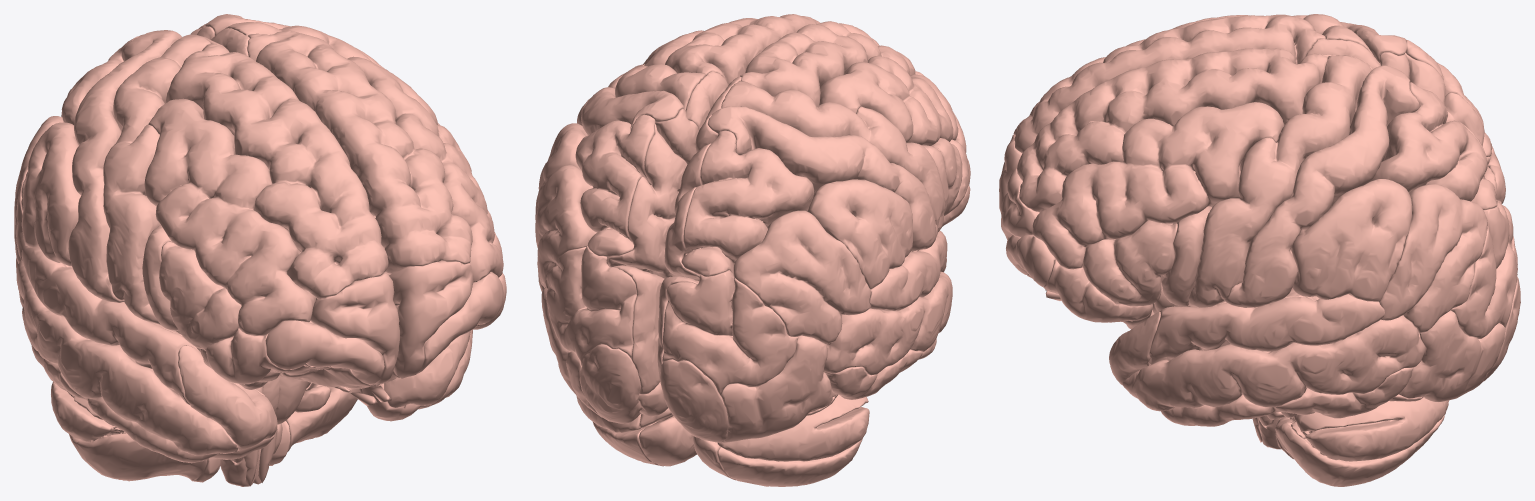
The model's file is brain.glb.
3 renders of one model, left to right at view 1: azimuth 30°, elevation 25°; view 2: azimuth 150°, elevation 25°; view 3: azimuth 270°, elevation 25°, orthographic. The views are drawn at different scales.
Visible parts, largest first — view 1: Allen_superior_frontal_gyrus_L, Allen_middle_frontal_gyrus_L, Allen_superior_frontal_gyrus_R, Allen_middle_temporal_gyrus_L, Allen_precentral_gyrus_L, Allen_postcentral_gyrus_L, Allen_superior_temporal_gyrus_L, Allen_middle_frontal_gyrus_R, Allen_supramarginal_gyrus_L, Allen_rostral_gyrus_R, Allen_lateral_hemisphere_of_cerebellum_L, Allen_inferior_frontal_gyrus_triangular_part_L (+19 smaller); view 2: Allen_angular_gyrus_L, Allen_supraparietal_lobule_L, Allen_superior_occipital_gyrus_L, Allen_postcentral_gyrus_L, Allen_lateral_hemisphere_of_cerebellum_L, Allen_superior_occipital_gyrus_R, Allen_supraparietal_lobule_R, Allen_precentral_gyrus_L, Allen_supramarginal_gyrus_L, Allen_middle_frontal_gyrus_L, Allen_superior_frontal_gyrus_L, Allen_inferior_occipital_gyrus_L (+24 smaller); view 3: Allen_middle_frontal_gyrus_R, Allen_superior_frontal_gyrus_R, Allen_middle_temporal_gyrus_R, Allen_precentral_gyrus_R, Allen_postcentral_gyrus_R, Allen_supramarginal_gyrus_R, Allen_angular_gyrus_R, Allen_superior_temporal_gyrus_R, Allen_lateral_hemisphere_of_cerebellum_R, Allen_superior_frontal_gyrus_L, Allen_supraparietal_lobule_R, Allen_inferior_frontal_gyrus_triangular_part_R (+16 smaller).
Part boxes in pixels (bbox=[...]): Allen_superior_frontal_gyrus_L: bbox=[165, 43, 388, 299]; Allen_middle_frontal_gyrus_L: bbox=[144, 98, 315, 335]; Allen_superior_frontal_gyrus_R: bbox=[247, 31, 472, 273]; Allen_middle_temporal_gyrus_L: bbox=[16, 260, 238, 455]; Allen_precentral_gyrus_L: bbox=[103, 34, 210, 325]; Allen_postcentral_gyrus_L: bbox=[68, 30, 181, 302]; Allen_superior_temporal_gyrus_L: bbox=[21, 245, 196, 404]; Allen_middle_frontal_gyrus_R: bbox=[347, 56, 503, 282]; Allen_supramarginal_gyrus_L: bbox=[21, 122, 81, 266]; Allen_rostral_gyrus_R: bbox=[389, 260, 473, 378]; Allen_lateral_hemisphere_of_cerebellum_L: bbox=[51, 382, 207, 481]; Allen_inferior_frontal_gyrus_triangular_part_L: bbox=[159, 241, 241, 350]; Allen_angular_gyrus_L: bbox=[733, 210, 870, 344]; Allen_supraparietal_lobule_L: bbox=[681, 130, 814, 276]; Allen_superior_occipital_gyrus_L: bbox=[662, 270, 798, 395]; Allen_postcentral_gyrus_L: bbox=[707, 106, 938, 251]; Allen_lateral_hemisphere_of_cerebellum_L: bbox=[717, 394, 869, 486]; Allen_superior_occipital_gyrus_R: bbox=[546, 245, 636, 365]; Allen_supraparietal_lobule_R: bbox=[575, 114, 655, 256]; Allen_precentral_gyrus_L: bbox=[721, 81, 944, 231]; Allen_supramarginal_gyrus_L: bbox=[807, 179, 912, 289]; Allen_middle_frontal_gyrus_L: bbox=[819, 55, 966, 152]; Allen_superior_frontal_gyrus_L: bbox=[740, 21, 923, 106]; Allen_inferior_occipital_gyrus_L: bbox=[721, 335, 836, 442]; Allen_middle_frontal_gyrus_R: bbox=[1032, 102, 1284, 269]; Allen_superior_frontal_gyrus_R: bbox=[1017, 48, 1327, 212]; Allen_middle_temporal_gyrus_R: bbox=[1122, 315, 1425, 411]; Allen_precentral_gyrus_R: bbox=[1188, 55, 1371, 307]; Allen_postcentral_gyrus_R: bbox=[1225, 65, 1420, 307]; Allen_supramarginal_gyrus_R: bbox=[1290, 179, 1412, 301]; Allen_angular_gyrus_R: bbox=[1379, 184, 1487, 333]; Allen_superior_temporal_gyrus_R: bbox=[1149, 294, 1384, 365]; Allen_lateral_hemisphere_of_cerebellum_R: bbox=[1267, 397, 1448, 486]; Allen_superior_frontal_gyrus_L: bbox=[1013, 14, 1325, 153]; Allen_supraparietal_lobule_R: bbox=[1371, 82, 1497, 209]; Allen_inferior_frontal_gyrus_triangular_part_R: bbox=[1082, 220, 1177, 306].
Bounding box in the file's own units: 0.1364 × 0.1461 × 0.167.
